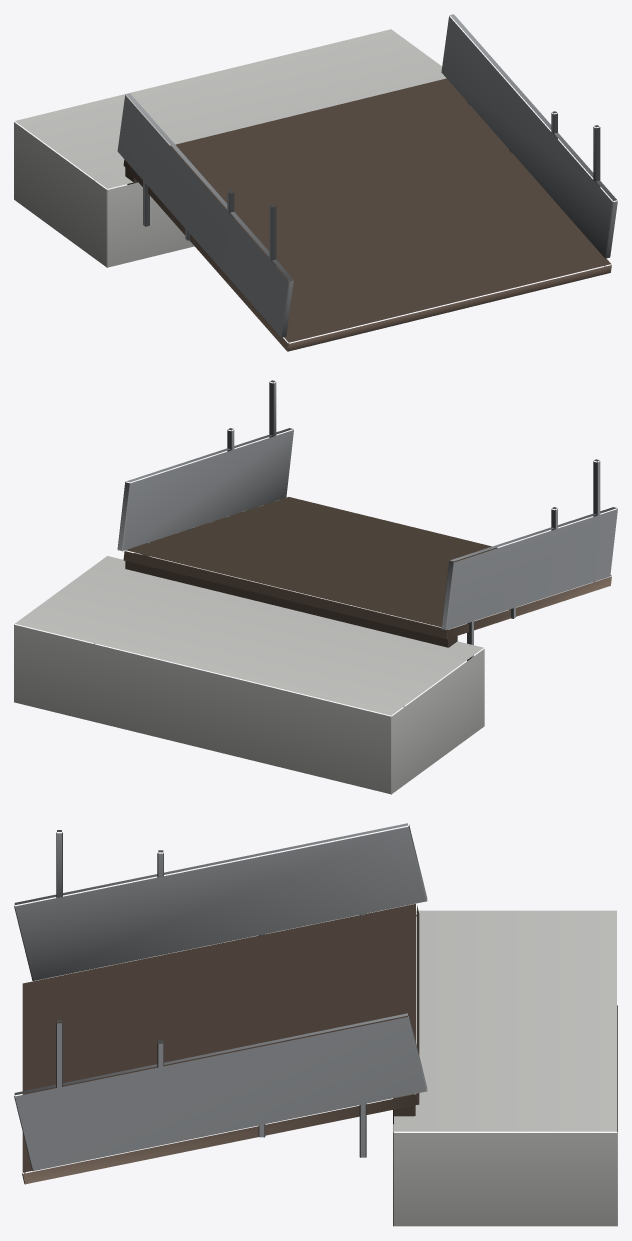
File: ferry_ramp.glb
3 renders of one model, top to bottom at view 1: azimuth 30°, elevation 25°; view 2: azimuth 150°, elevation 25°; view 3: azimuth 270°, elevation 25°, orthographic. The views are drawn at different scales.
Visible parts, largest first — view 1: props_ferry_ramp; view 2: props_ferry_ramp; view 3: props_ferry_ramp.
Boxes of the visible parts, <box> form: props_ferry_ramp: <box>14,14,617,351</box>; props_ferry_ramp: <box>14,380,617,794</box>; props_ferry_ramp: <box>14,823,617,1226</box>.
Size of the model in its own units: 7 by 2.9 by 8.06.
